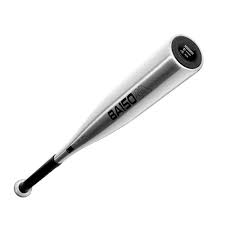baseball bat: (14, 33, 203, 197)
